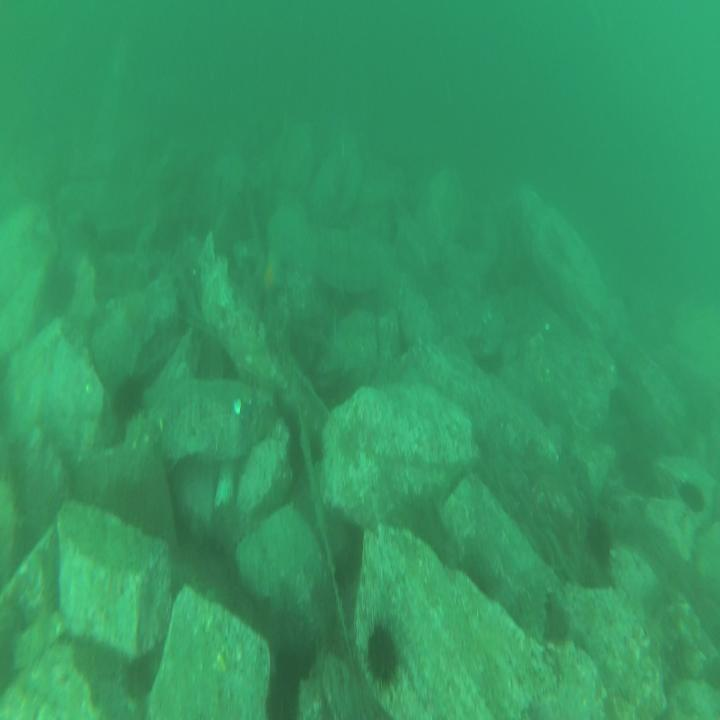echinus: (354, 611, 408, 708), (586, 510, 619, 572), (107, 378, 149, 424), (681, 471, 708, 522)
starfish: (257, 247, 285, 300)
